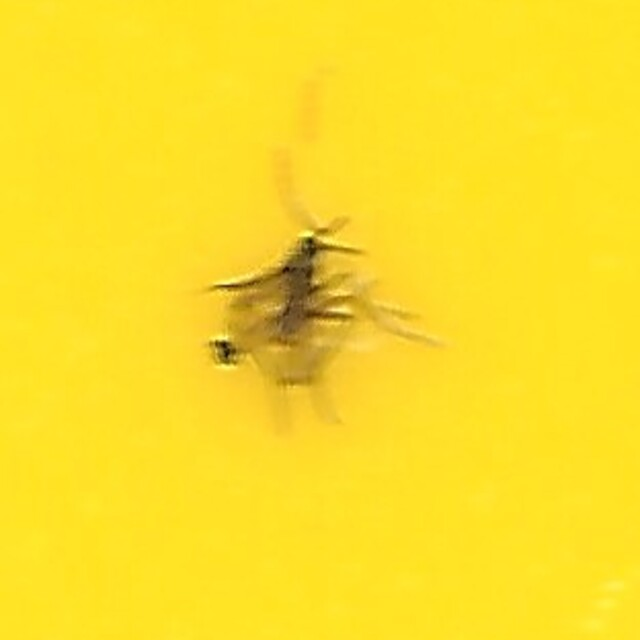Nematocera: (205, 219, 435, 421)
